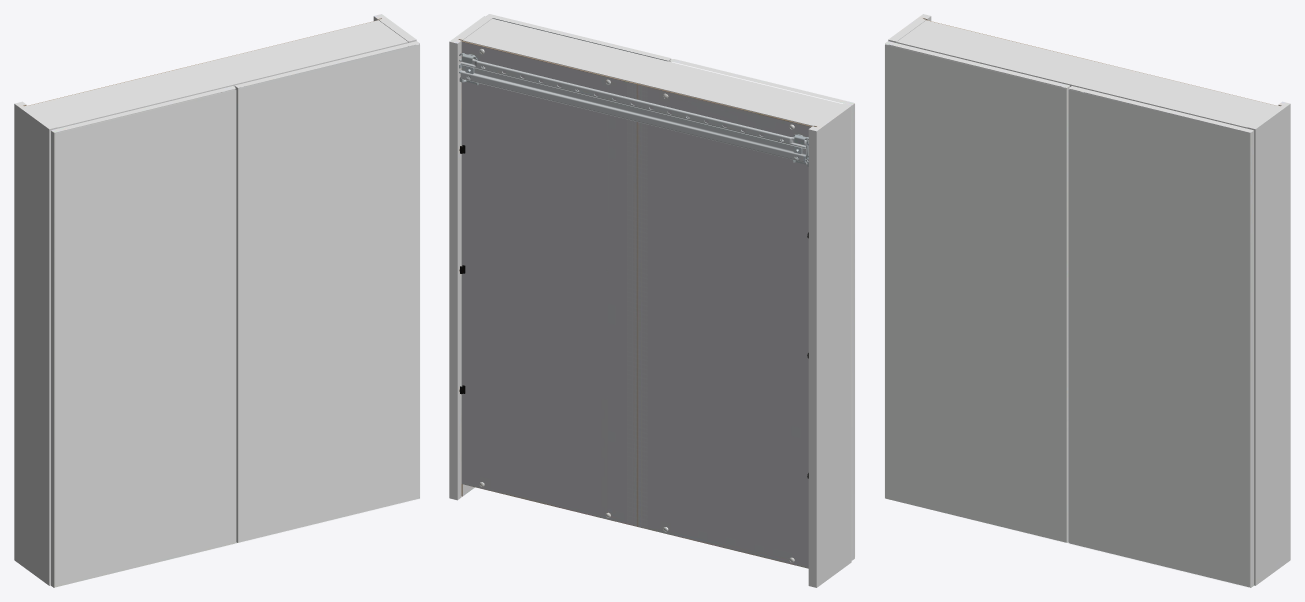
Rendered from lettan_szafka_z_lustrem_drzwiczki_80534923.glb.
3 views of the same model, side by side, from view 1: azimuth 30°, elevation 25°; view 2: azimuth 150°, elevation 25°; view 3: azimuth 330°, elevation 25° (orthographic).
Visible parts, largest first — view 1: lettan_szafka_z_lustrem_drzwiczki_80534923; view 2: lettan_szafka_z_lustrem_drzwiczki_80534923; view 3: lettan_szafka_z_lustrem_drzwiczki_80534923.
Part boxes in pixels (x1,y1,x2,y2): lettan_szafka_z_lustrem_drzwiczki_80534923: [14, 14, 419, 587]; lettan_szafka_z_lustrem_drzwiczki_80534923: [449, 14, 854, 587]; lettan_szafka_z_lustrem_drzwiczki_80534923: [885, 14, 1290, 587].
Size of the model in its own units: 0.8 by 0.95 by 0.151.
Materials: 2 (2 with a texture image).
